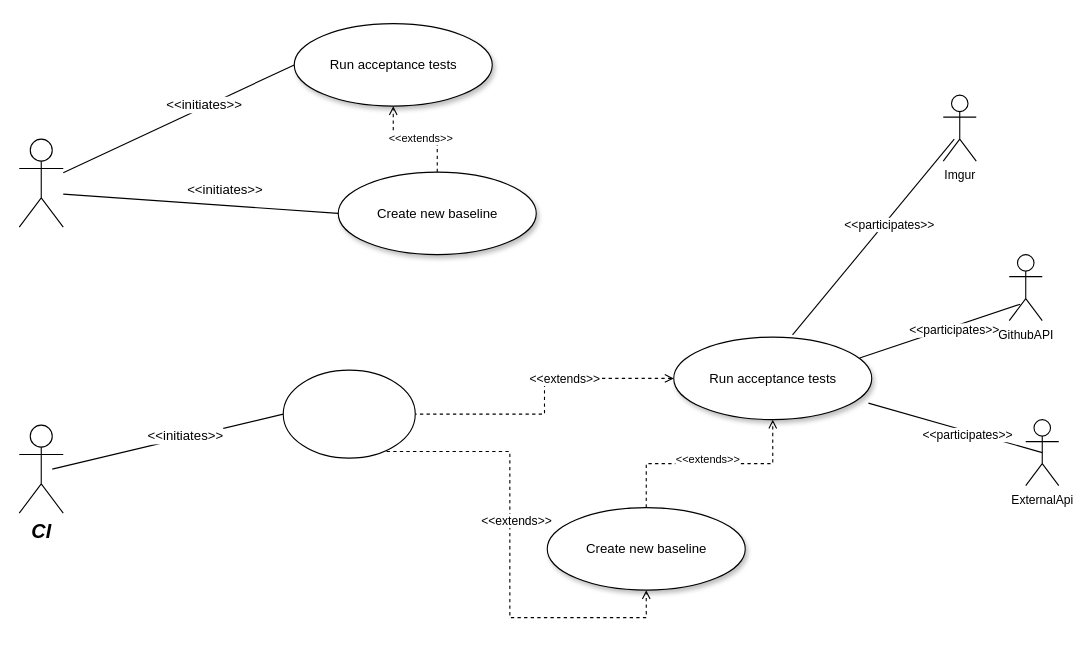
Some shapes in this 1092 by 646 pixel diagram are drawn without their labels. The centre of each missing label's shape, as x and y in pixels:
"Run CI Visual Acceptance" belongs at (348,413).
"User" belongs at (40,182).
